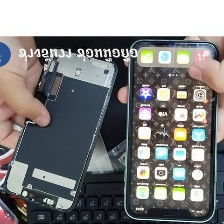phone: (0, 45, 121, 214), (120, 37, 221, 224)
